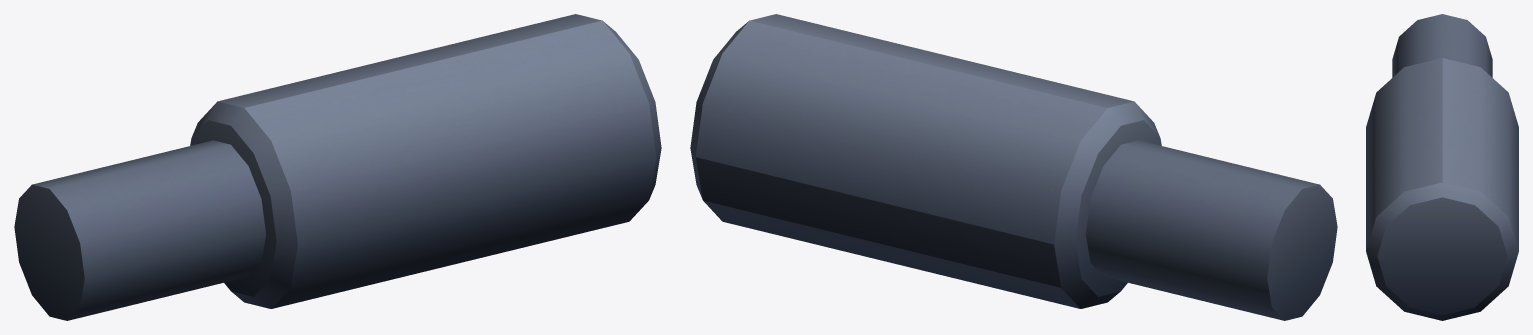
File: Barrel1.FBX
The picture shows the model from 3 angles, left to right: view 1: azimuth 30°, elevation 25°; view 2: azimuth 150°, elevation 25°; view 3: azimuth 270°, elevation 25°; orthographic projection. The views are drawn at different scales.
Visible parts, largest first — view 1: Cylinder003; view 2: Cylinder003; view 3: Cylinder003.
Boxes of the visible parts, <box> form: Cylinder003: <box>14,14,661,320</box>; Cylinder003: <box>690,14,1337,320</box>; Cylinder003: <box>1366,14,1518,320</box>.
Bounding box in the file's own units: 7.58 × 2.49 × 2.49.
